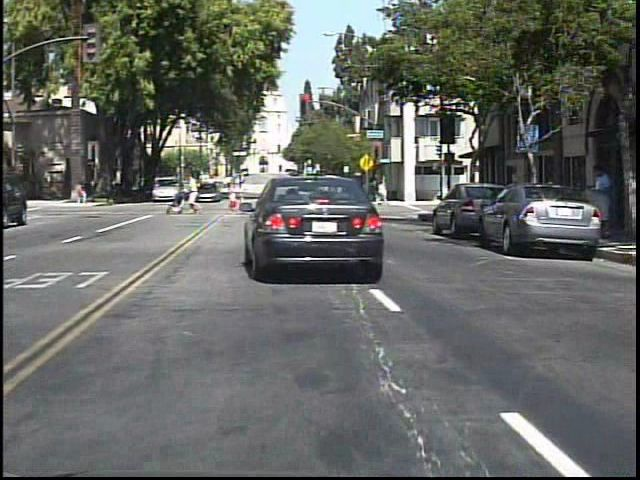person: (590, 161, 619, 242), (188, 172, 209, 219), (77, 176, 93, 207), (115, 174, 116, 204)
